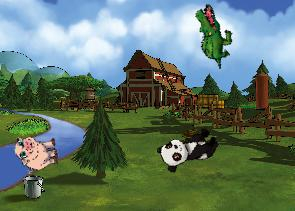crocodile: (180, 1, 245, 70)
panda: (155, 122, 222, 175)
pig: (13, 130, 60, 174)
